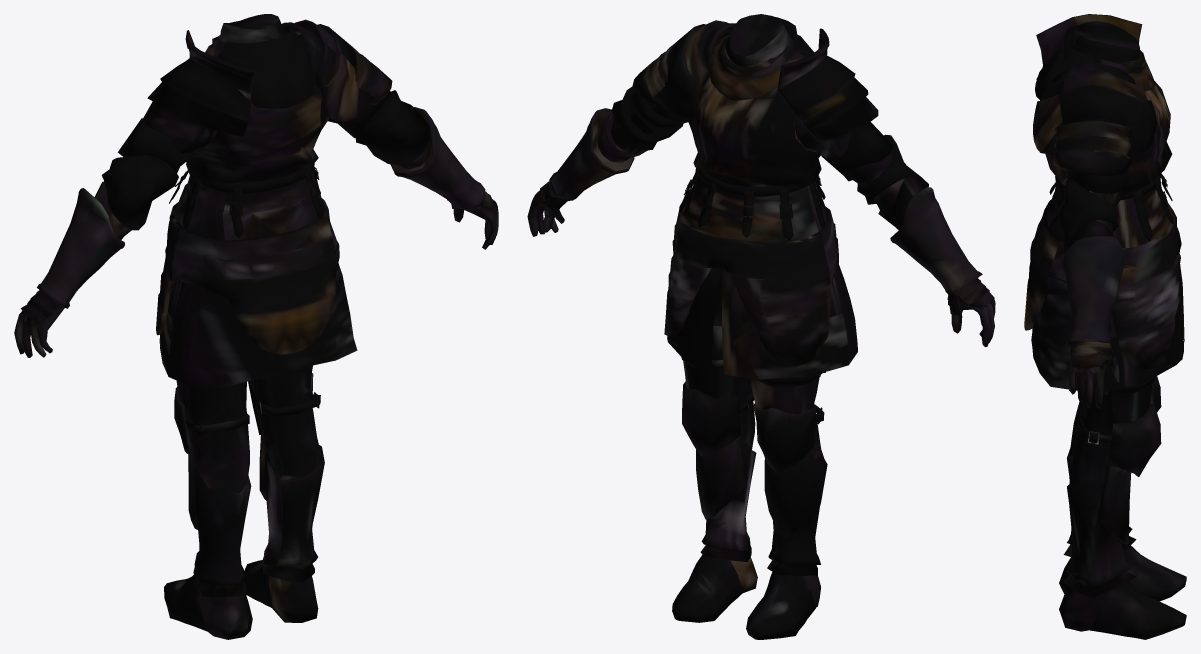
3 renders of one model, left to right at view 1: azimuth 30°, elevation 25°; view 2: azimuth 150°, elevation 25°; view 3: azimuth 270°, elevation 25°, orthographic. The views are drawn at different scales.
Visible parts, largest first — view 1: mesh_0; view 2: mesh_0; view 3: mesh_0.
Part boxes in pixels (x1,y1,x2,y2): mesh_0: (14,14,498,639); mesh_0: (527,14,995,639); mesh_0: (1024,14,1186,639).
Size of the model in its own units: 53.4 by 64.1 by 16.25.
1 material, 1 textured.
